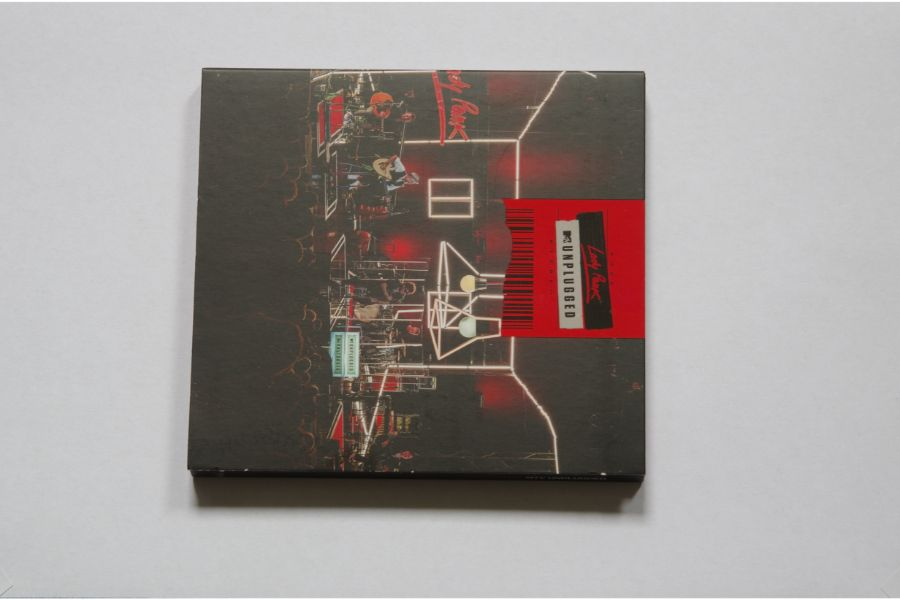album: (186, 67, 648, 480)
